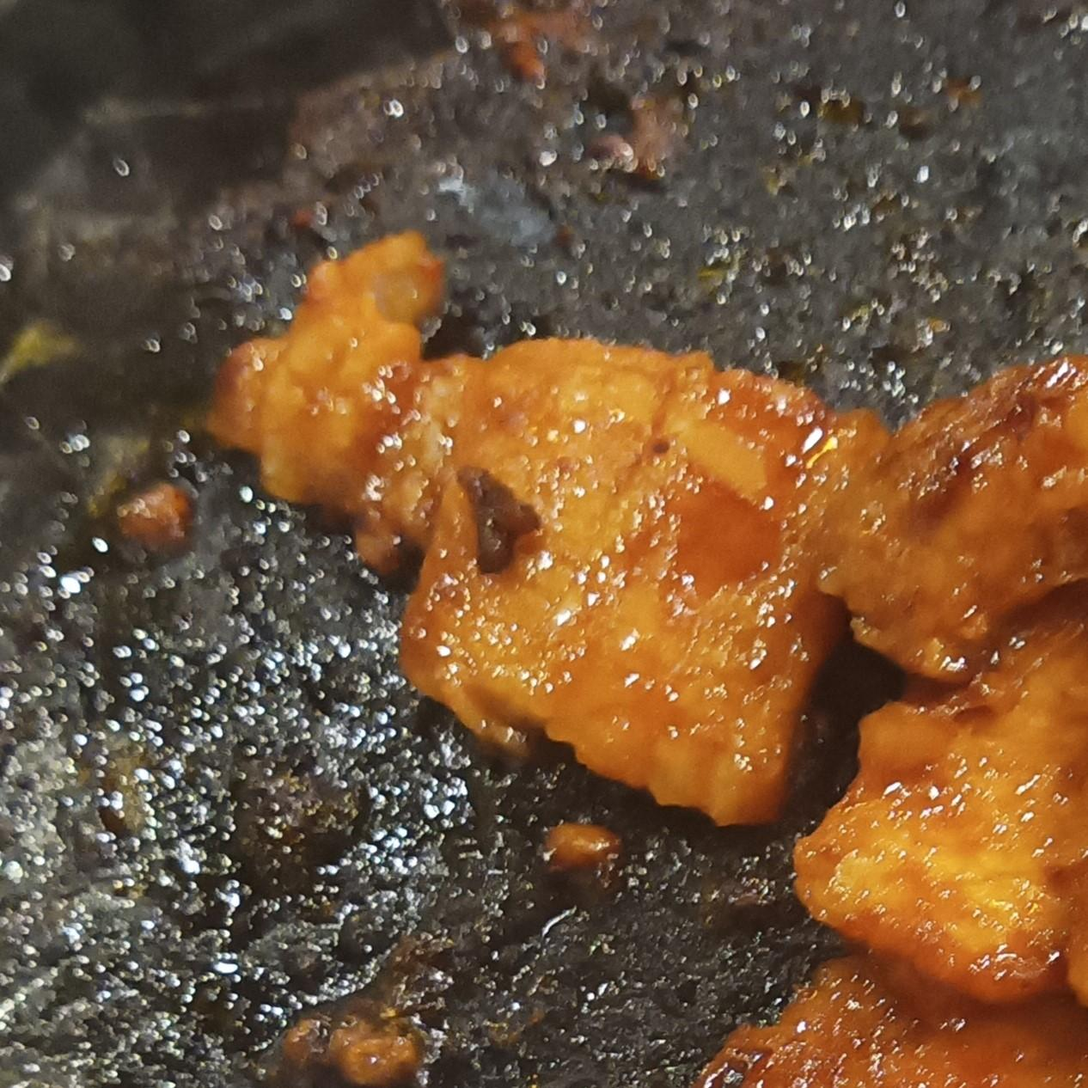Well-Cooked: (208, 232, 888, 825), (795, 356, 1087, 1087)
